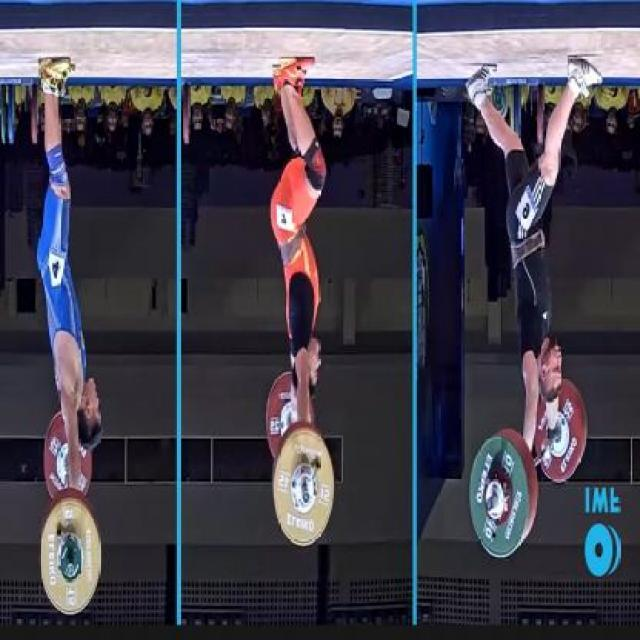Barbell: (64, 559, 78, 584), (484, 494, 498, 515), (300, 484, 312, 508)
